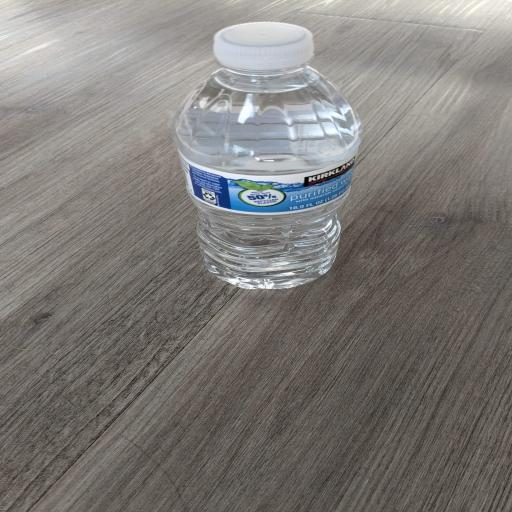waterbottle: (174, 23, 361, 288)
